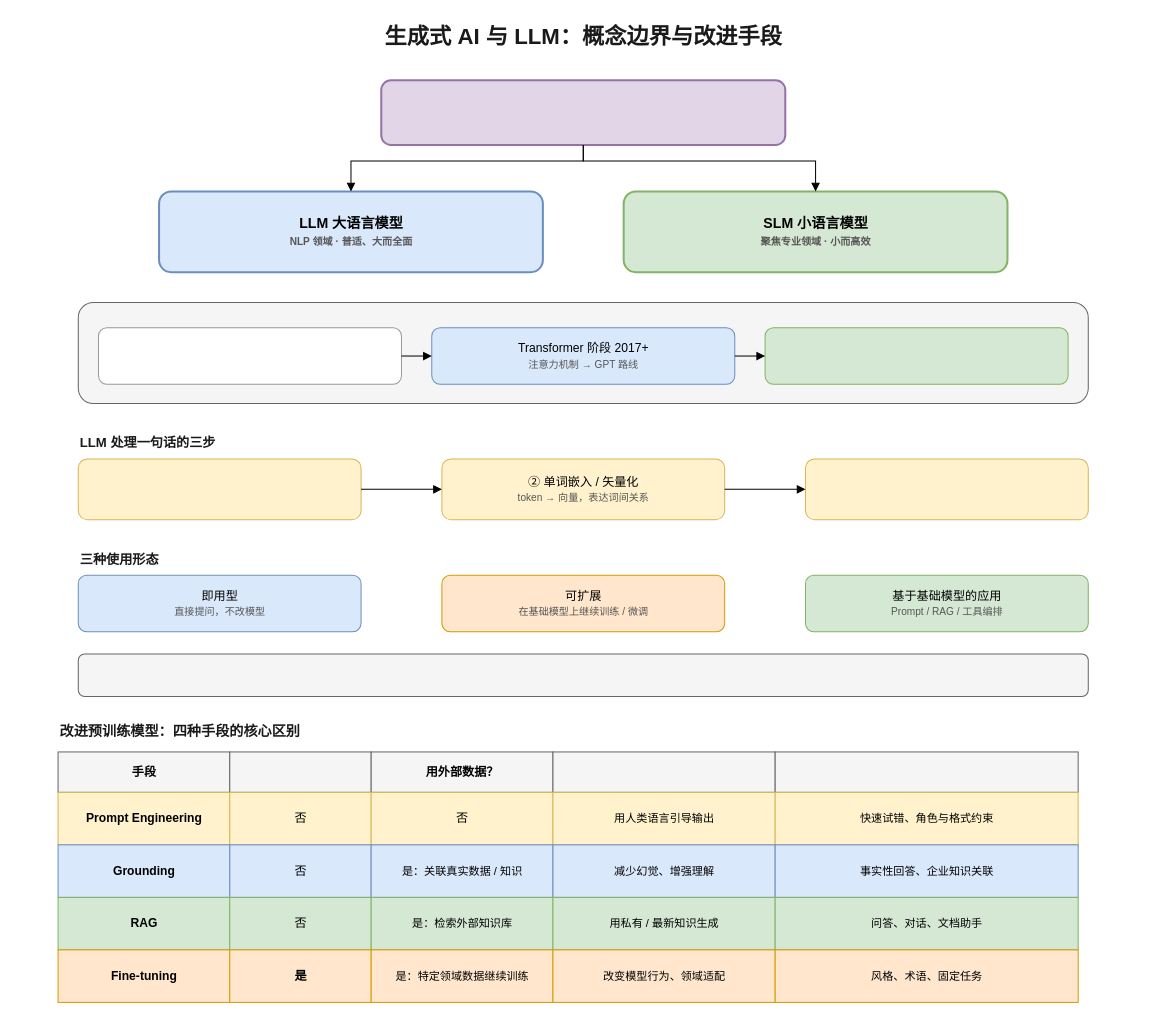
The diagram is 1166 pixels wide and 1020 high, and some of its shapes have lost their labels. Each missing label, with the box of its shape:
LLM 演进: (77, 301, 1088, 403)
① Token 化 阅读文本，切成 token: (77, 458, 361, 520)
③ 语言模型 / 上下文建模 捕获上下文，预测下一个 token: (804, 458, 1088, 520)
主要解决: (552, 751, 775, 792)
典型场景: (774, 751, 1078, 792)
基础模型（直接使用，改 prompt / 检索） vs 专用模型（微调参数，改权重）—— 后者才改变模型本身: (77, 653, 1088, 696)
多模态阶段 2020+ 文本 + 图像 / 音频 / 视频: (764, 327, 1068, 384)
改权重？: (229, 751, 371, 792)
早期阶段 统计语言模型 / 规则: (97, 327, 401, 384)
生成式 AI（Generative AI） 产出新内容：文本 / 图像 / 音频 / 视频: (380, 79, 786, 145)
